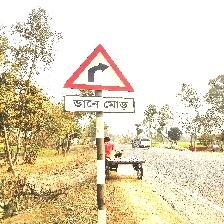Right-turn: (63, 44, 136, 114)
